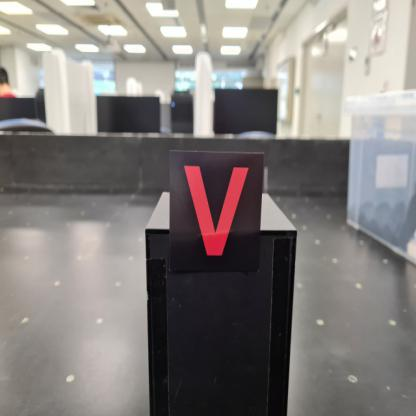v: (168, 150, 266, 275)
